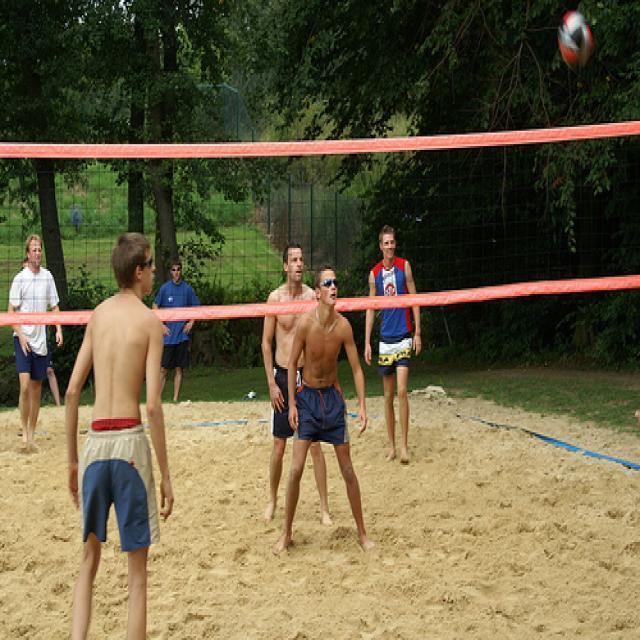volleyball: (558, 16, 594, 67)
